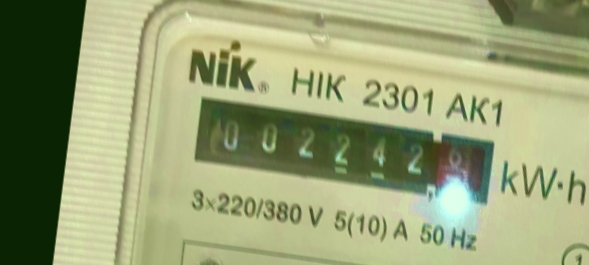0: (221, 118, 245, 153), (260, 120, 282, 155)
2: (333, 131, 355, 167), (297, 126, 320, 160), (407, 142, 428, 176)
4: (372, 134, 392, 169)
6: (448, 142, 467, 171)
screen: (183, 87, 509, 216)
